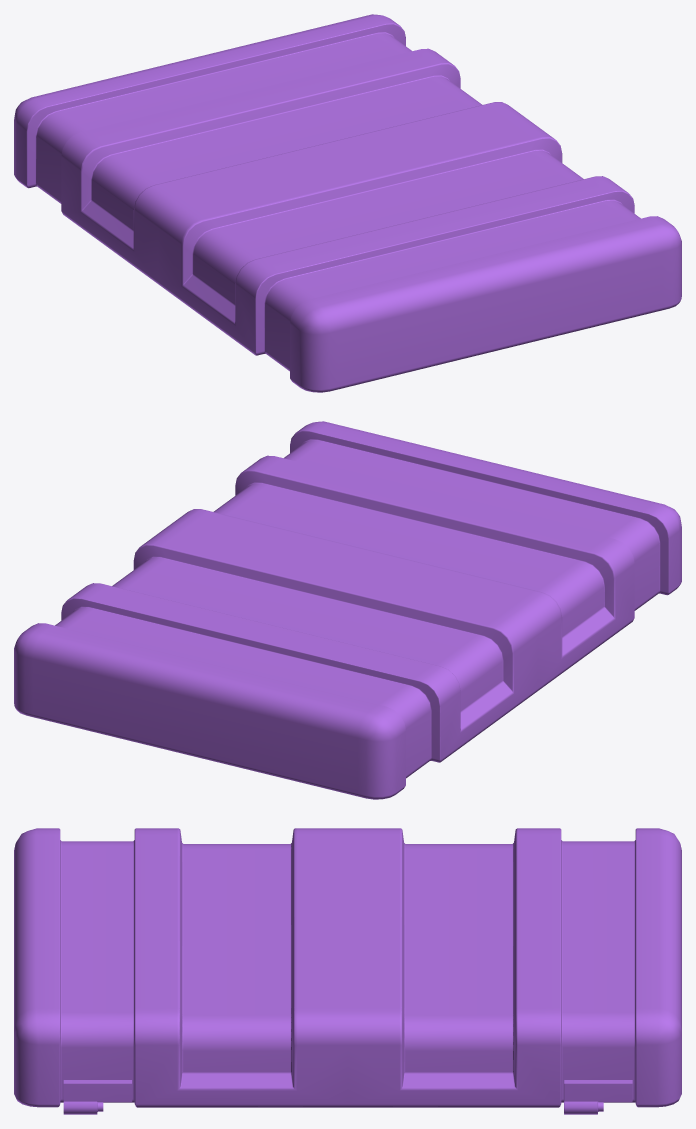
3 renders of one model, top to bottom at view 1: azimuth 30°, elevation 25°; view 2: azimuth 150°, elevation 25°; view 3: azimuth 270°, elevation 25°, orthographic. The views are drawn at different scales.
Visible parts, largest first — view 1: SM_Box01_part02; view 2: SM_Box01_part02; view 3: SM_Box01_part02.
Part boxes in pixels (x1=…): SM_Box01_part02: x1=14, y1=14, x2=681, y2=392; SM_Box01_part02: x1=14, y1=421, x2=681, y2=799; SM_Box01_part02: x1=14, y1=828, x2=681, y2=1114.
Size of the model in its own units: 134 by 28.67 by 187.
